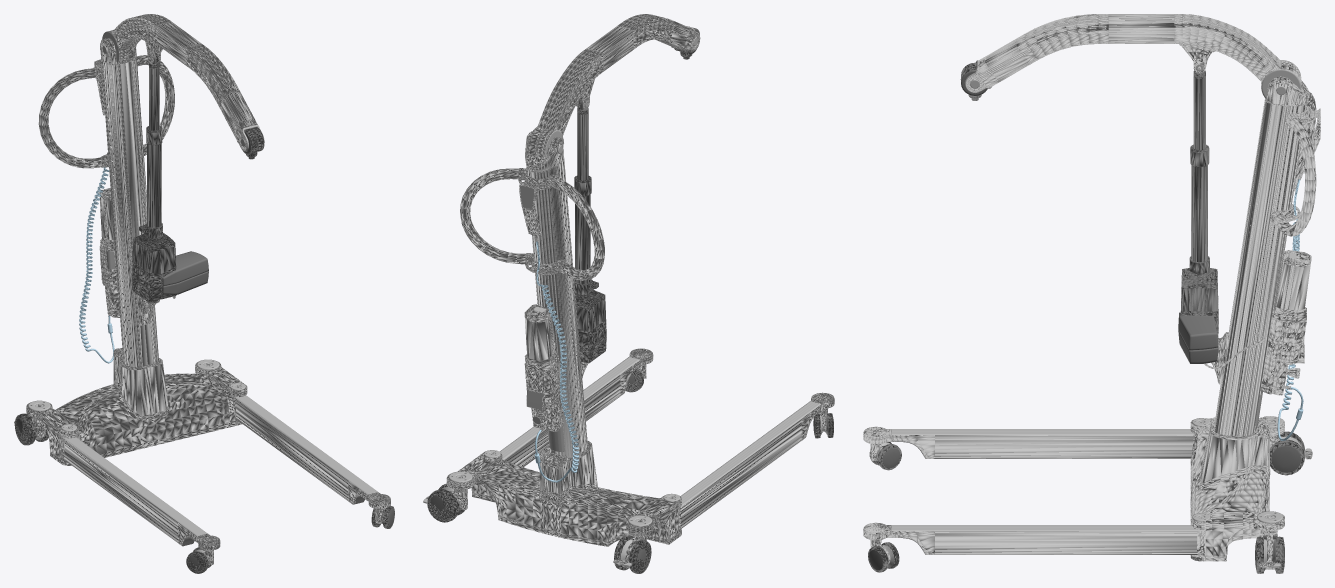
Rendered from Sling_Framework.fbx.
3 renders of one model, left to right at view 1: azimuth 30°, elevation 25°; view 2: azimuth 150°, elevation 25°; view 3: azimuth 270°, elevation 25°, orthographic. The views are drawn at different scales.
Visible parts, largest first — view 1: patient_lift_pivot, patient_lift_mount_top_pivot, patient_lift_base_1_pivot, patient_lift_mount_002_pivot, patient_lift_mount_001_pivot, patient_lift_wire_pivot, patient_lift_base_2_pivot, patient_lift_wheel_004_pivot; view 2: patient_lift_pivot, patient_lift_mount_top_pivot, patient_lift_mount_002_pivot, patient_lift_base_1_pivot, patient_lift_mount_001_pivot, patient_lift_wire_pivot, patient_lift_base_2_pivot, patient_lift_wheel_002_pivot, patient_lift_wheel_004_pivot; view 3: patient_lift_pivot, patient_lift_mount_top_pivot, patient_lift_mount_001_pivot, patient_lift_mount_002_pivot, patient_lift_base_1_pivot, patient_lift_wheel_004_pivot, patient_lift_base_2_pivot, patient_lift_wire_pivot, patient_lift_wheel_001_pivot, patient_lift_wheel_002_pivot.
Part boxes in pixels (bbox=[...]): patient_lift_pivot: bbox=[26, 38, 247, 465]; patient_lift_mount_top_pivot: bbox=[102, 14, 264, 151]; patient_lift_base_1_pivot: bbox=[132, 126, 208, 303]; patient_lift_mount_002_pivot: bbox=[61, 436, 220, 550]; patient_lift_mount_001_pivot: bbox=[235, 395, 390, 508]; patient_lift_wire_pivot: bbox=[79, 167, 114, 363]; patient_lift_base_2_pivot: bbox=[149, 52, 159, 130]; patient_lift_wheel_004_pivot: bbox=[14, 413, 48, 445]; patient_lift_pivot: bbox=[446, 131, 681, 546]; patient_lift_mount_top_pivot: bbox=[527, 14, 700, 158]; patient_lift_mount_002_pivot: bbox=[679, 392, 834, 530]; patient_lift_base_1_pivot: bbox=[574, 176, 606, 363]; patient_lift_mount_001_pivot: bbox=[500, 348, 653, 467]; patient_lift_wire_pivot: bbox=[534, 241, 579, 482]; patient_lift_base_2_pivot: bbox=[577, 97, 588, 180]; patient_lift_wheel_002_pivot: bbox=[427, 483, 467, 522]; patient_lift_wheel_004_pivot: bbox=[614, 536, 651, 573]; patient_lift_pivot: bbox=[1190, 76, 1320, 561]; patient_lift_mount_top_pivot: bbox=[964, 14, 1301, 98]; patient_lift_mount_001_pivot: bbox=[863, 522, 1204, 554]; patient_lift_mount_002_pivot: bbox=[863, 426, 1193, 458]; patient_lift_base_1_pivot: bbox=[1178, 144, 1218, 363]; patient_lift_wheel_004_pivot: bbox=[1270, 431, 1304, 475]; patient_lift_base_2_pivot: bbox=[1193, 70, 1205, 149]; patient_lift_wire_pivot: bbox=[1277, 179, 1303, 440]; patient_lift_wheel_001_pivot: bbox=[868, 542, 899, 572]; patient_lift_wheel_002_pivot: bbox=[1255, 536, 1284, 573].
Bounding box in the file's own units: 8127 × 15425 × 12792.
